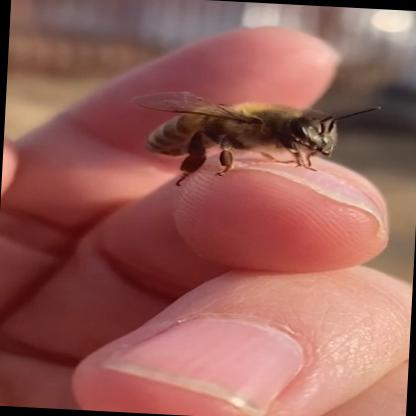bee: (101, 69, 400, 202)
